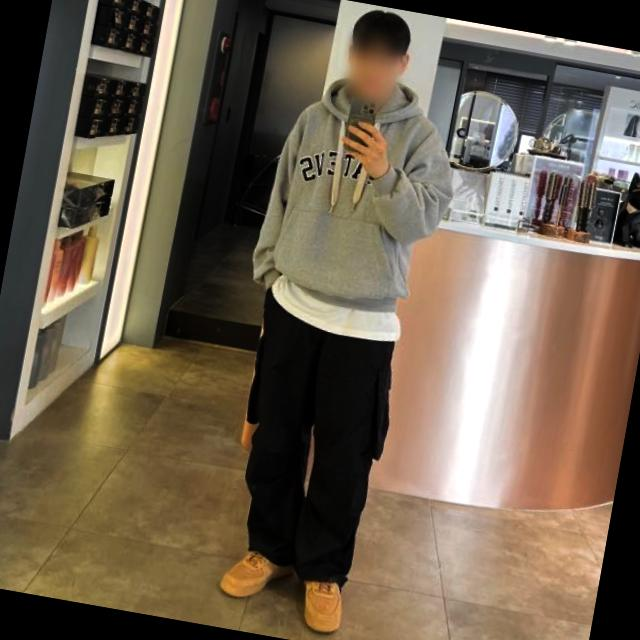cottonpants: (216, 286, 403, 589)
hoodies: (246, 62, 467, 326)
